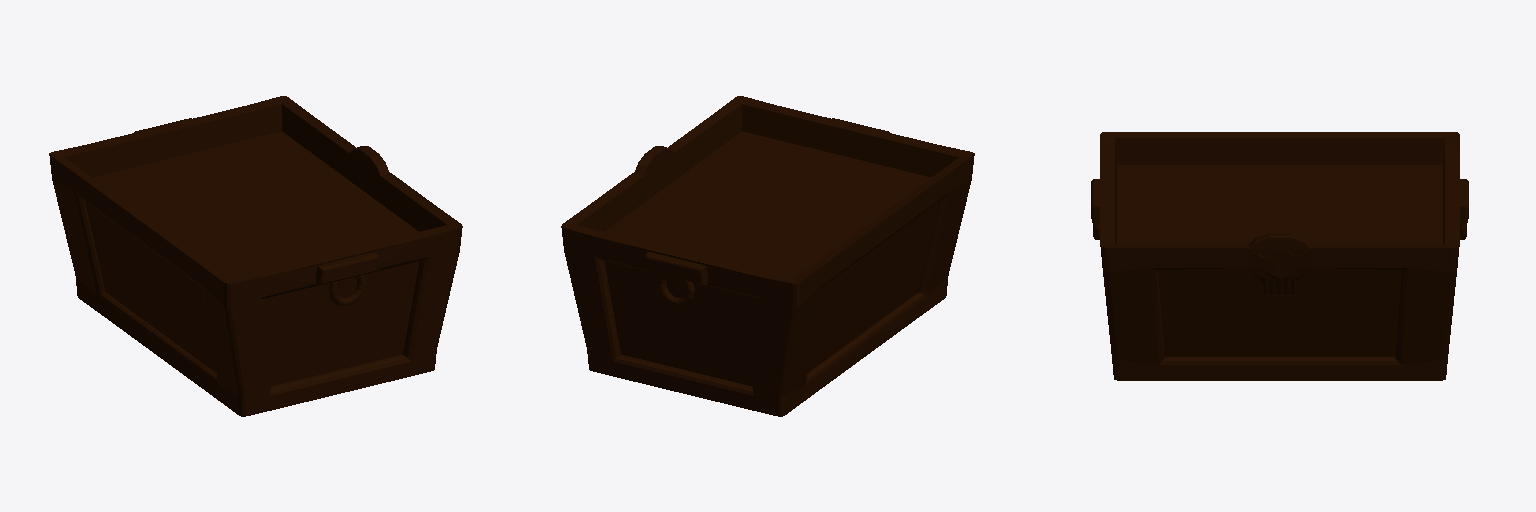
The model's file is chest_lower.obj.
3 views of the same model, side by side, from view 1: azimuth 30°, elevation 25°; view 2: azimuth 150°, elevation 25°; view 3: azimuth 270°, elevation 25° (orthographic).
Visible parts, largest first — view 1: chest_base_Cylinder.004; view 2: chest_base_Cylinder.004; view 3: chest_base_Cylinder.004.
Part boxes in pixels (x1,y1,x2,y2): chest_base_Cylinder.004: (49,96,462,416); chest_base_Cylinder.004: (561,96,974,416); chest_base_Cylinder.004: (1091,132,1468,380).
Bounding box in the file's own units: 6.75 × 4.18 × 9.28.